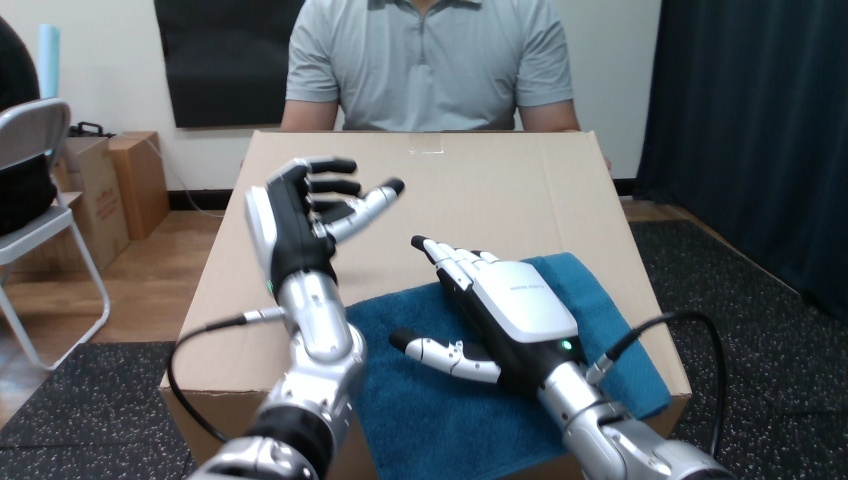left robot hand: (390, 235, 732, 479), (176, 156, 403, 479)
